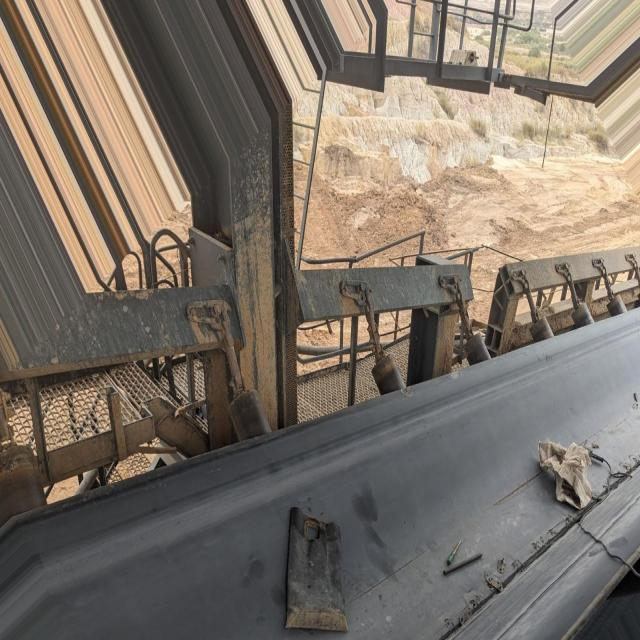Other Objects: (281, 509, 350, 638), (538, 427, 619, 508), (577, 520, 640, 595), (441, 521, 493, 580)
Roller: (231, 386, 271, 442), (461, 328, 492, 370), (374, 355, 404, 397), (575, 293, 595, 329), (533, 311, 557, 338), (606, 291, 628, 315)
Tear: (430, 457, 638, 640)
